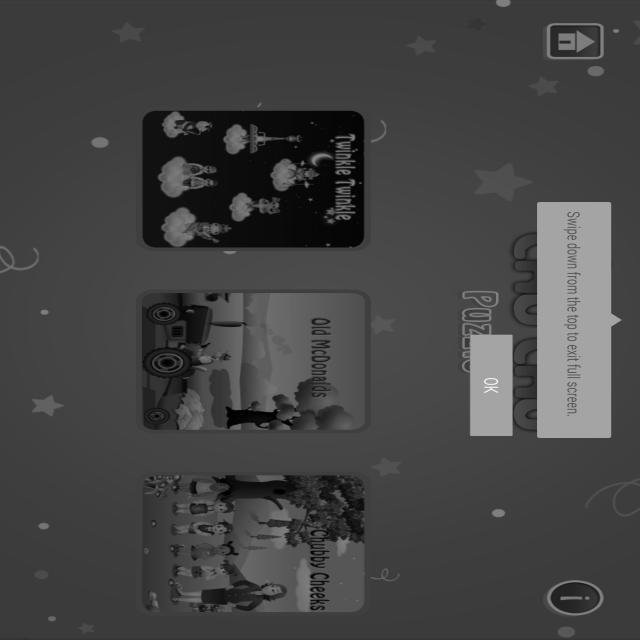Button: (472, 332, 512, 440)
ImageButton: (538, 24, 611, 65)
ImageView: (115, 473, 379, 621), (130, 103, 376, 253), (124, 286, 370, 434)
TextView: (536, 196, 602, 436)
